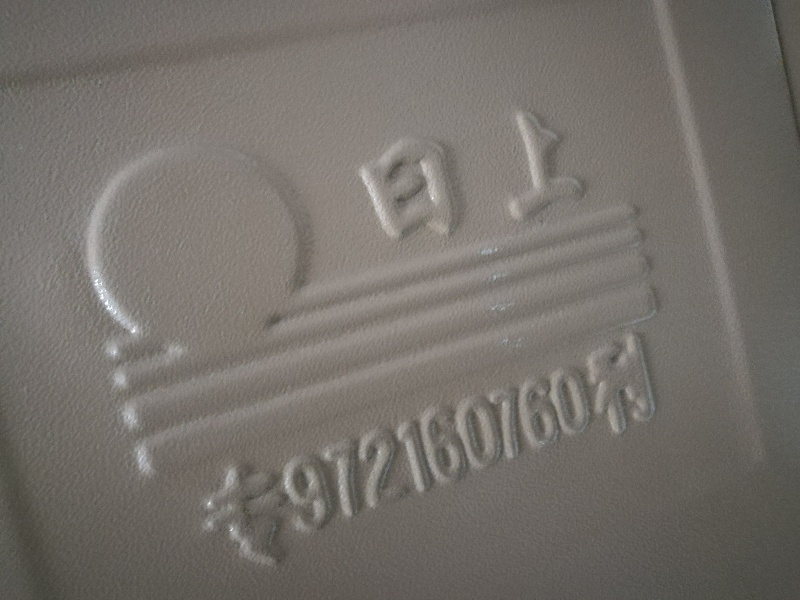text: (193, 328, 208, 588), (209, 328, 224, 588), (225, 328, 240, 588), (241, 328, 256, 588), (257, 328, 272, 588), (273, 328, 288, 588), (289, 328, 304, 588), (305, 328, 320, 588), (321, 328, 336, 588), (337, 328, 352, 588), (353, 328, 368, 588), (369, 328, 384, 588), (385, 328, 400, 588), (401, 328, 416, 588), (417, 328, 432, 588), (433, 328, 448, 588), (449, 328, 464, 588), (465, 328, 480, 588), (481, 328, 496, 588), (497, 328, 512, 588), (513, 328, 528, 588), (529, 328, 544, 588), (545, 328, 560, 588), (561, 328, 576, 588), (577, 328, 592, 588), (593, 328, 608, 588), (609, 328, 624, 588), (625, 328, 640, 588), (641, 328, 656, 588), (353, 88, 368, 257), (369, 88, 384, 257), (385, 88, 400, 257), (401, 88, 416, 257), (417, 88, 432, 257), (433, 88, 448, 257), (449, 88, 464, 257), (465, 88, 480, 257), (481, 88, 496, 257), (497, 88, 512, 257), (513, 88, 528, 257), (529, 88, 544, 257), (545, 88, 560, 257), (561, 88, 576, 257), (577, 88, 592, 257), (185, 328, 192, 588), (657, 328, 663, 588), (593, 88, 595, 257)
